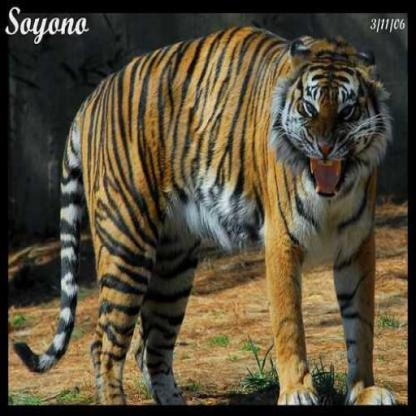Tiger: (34, 22, 400, 406)
